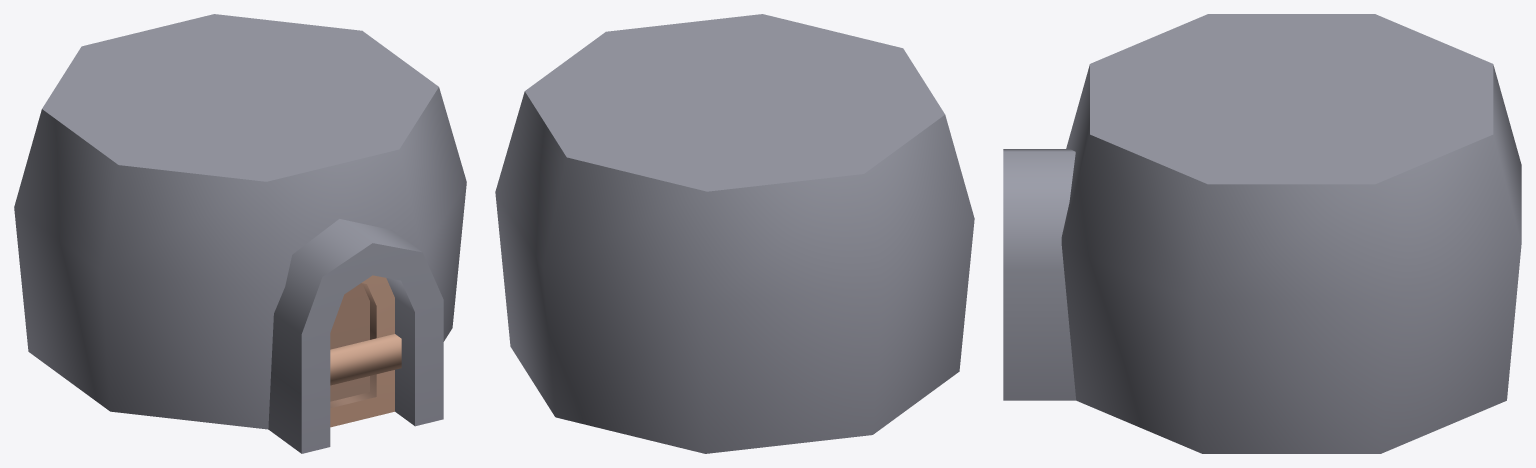
Rendered from tower-base-door.glb.
3 renders of one model, left to right at view 1: azimuth 30°, elevation 25°; view 2: azimuth 150°, elevation 25°; view 3: azimuth 270°, elevation 25°, orthographic. The views are drawn at different scales.
Parts seen in each view (by area): view 1: tower-base-door; view 2: tower-base-door; view 3: tower-base-door.
Part boxes in pixels (x1,y1,x2,y2): tower-base-door: (14, 14, 466, 453); tower-base-door: (495, 14, 974, 453); tower-base-door: (1003, 14, 1521, 453).
Bounding box in the file's own units: 3.16 × 2 × 3.56.
